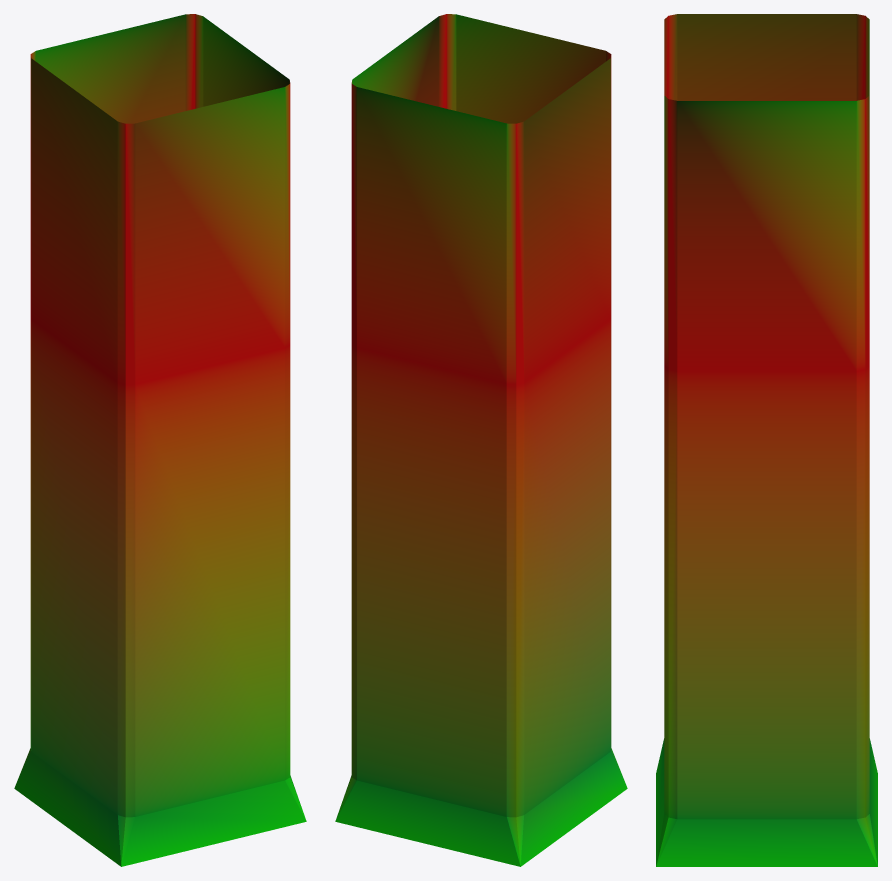
File: ColumnV4.fbx
3 views of the same model, side by side, from view 1: azimuth 30°, elevation 25°; view 2: azimuth 150°, elevation 25°; view 3: azimuth 270°, elevation 25° (orthographic). The views are drawn at different scales.
Visible parts, largest first — view 1: ColumnV4; view 2: ColumnV4; view 3: ColumnV4.
Part boxes in pixels (<box>): ColumnV4: <box>14,14,306,866</box>; ColumnV4: <box>335,14,627,866</box>; ColumnV4: <box>656,14,877,866</box>.
Size of the model in its own units: 135 by 512 by 135.
